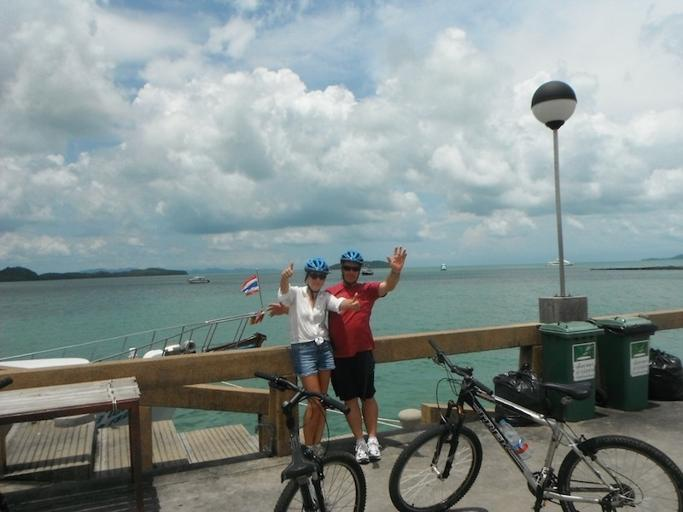non-vehicle: (388, 338, 682, 511), (253, 371, 367, 511)
